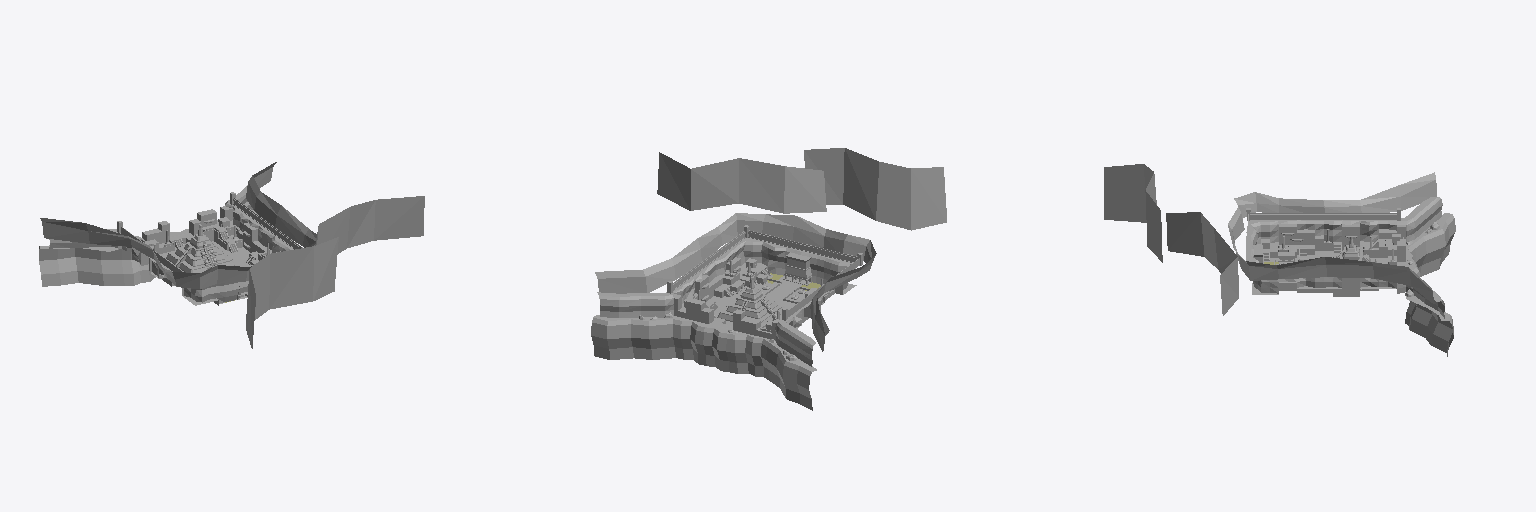
Rendered from PastVillage.obj.
The picture shows the model from 3 angles: view 1: azimuth 30°, elevation 25°; view 2: azimuth 150°, elevation 25°; view 3: azimuth 270°, elevation 25°; orthographic projection.
Parts seen in each view (by area): view 1: object_54CCC, object_54534, object_38FB4, object_54800, object_54AD0, object_26FA8, object_54F98, object_2E020, object_E188, object_2F31C; view 2: object_54CCC, object_54534, object_2F31C, object_387F4, object_54AD0, object_55268, object_38FB4, object_367EC, object_26FA8, object_B764, object_54F98, object_E188 (+5 smaller); view 3: object_54CCC, object_54534, object_54800, object_54AD0, object_CD74, object_38FB4, object_387F4, object_54F98, object_2AB48, object_E188, object_289BC, object_380B4 (+4 smaller).
Part boxes in pixels (x1,y1,x2,y2): object_54CCC: (246,237,338,348); object_54534: (315,196,424,254); object_38FB4: (39,245,124,286); object_54800: (40,218,167,278); object_54AD0: (246,162,308,245); object_26FA8: (118,206,232,253); object_54F98: (163,265,248,288); object_2E020: (214,222,271,266); object_E188: (225,200,292,252); object_2F31C: (122,229,188,285); object_54CCC: (804,148,946,230); object_54534: (657,152,826,213); object_2F31C: (673,317,769,380); object_387F4: (591,315,676,359); object_54AD0: (595,227,722,293); object_55268: (718,213,825,247); object_38FB4: (766,341,816,410); object_367EC: (597,292,665,317); object_26FA8: (674,294,788,340); object_B764: (761,241,833,284); object_54F98: (823,229,876,277); object_E188: (662,248,736,315); object_54CCC: (1104,164,1162,262); object_54534: (1166,212,1238,315); object_54800: (1279,172,1436,212); object_54AD0: (1277,257,1433,303); object_CD74: (1278,216,1414,241); object_38FB4: (1406,213,1455,276); object_387F4: (1406,296,1453,356); object_54F98: (1228,192,1278,240); object_2AB48: (1315,224,1387,257); object_E188: (1279,277,1412,293); object_289BC: (1257,224,1314,257); object_380B4: (1408,197,1442,238).
Size of the model in its own units: 4972 by 2090 by 5445.